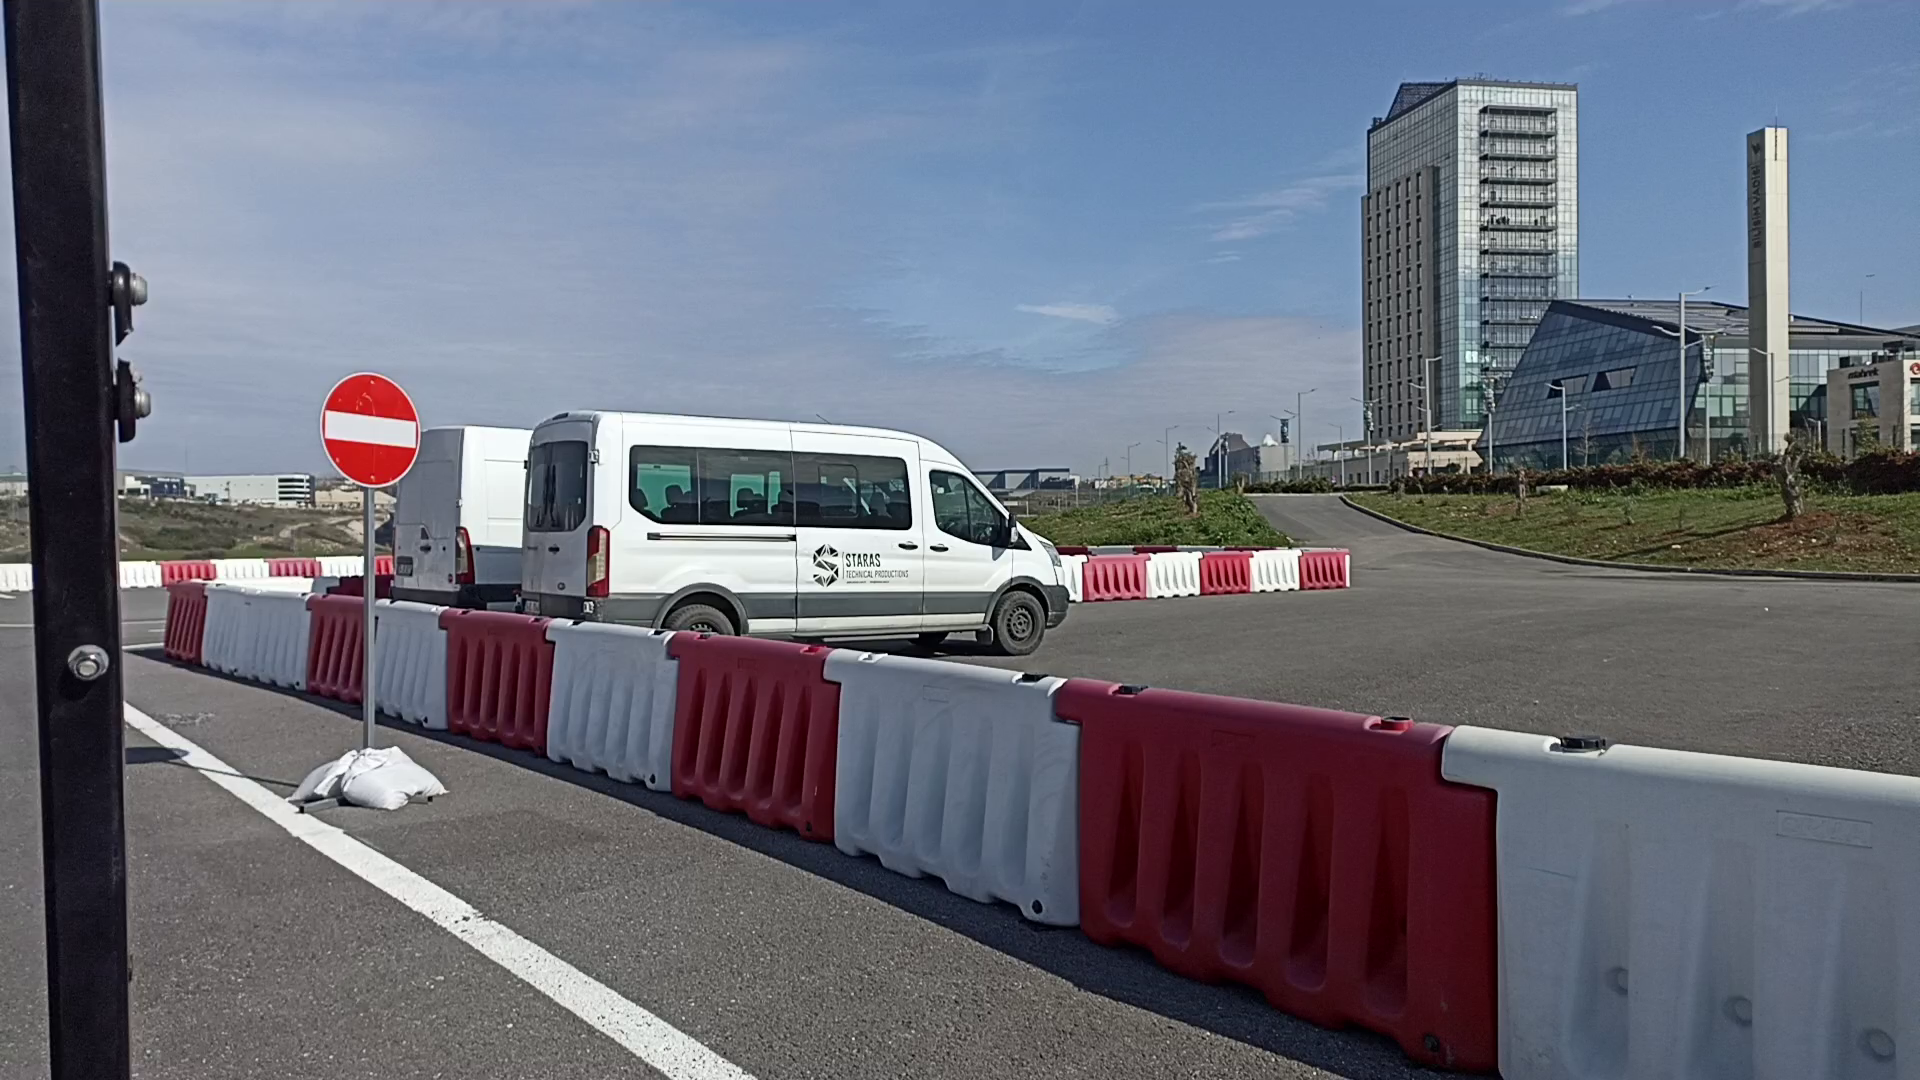noentryway: (315, 371, 425, 491)
